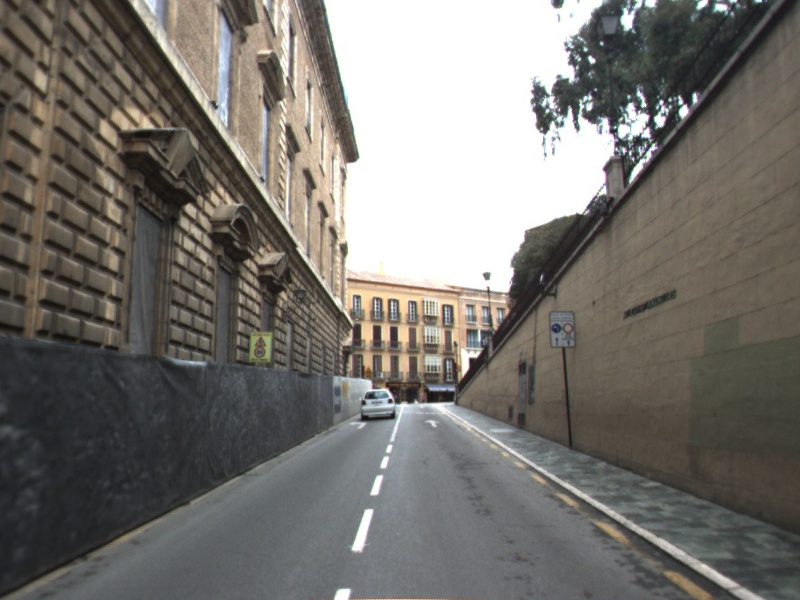LEFT: (348, 419, 369, 431)
STRAIGHT: (422, 417, 443, 429)
